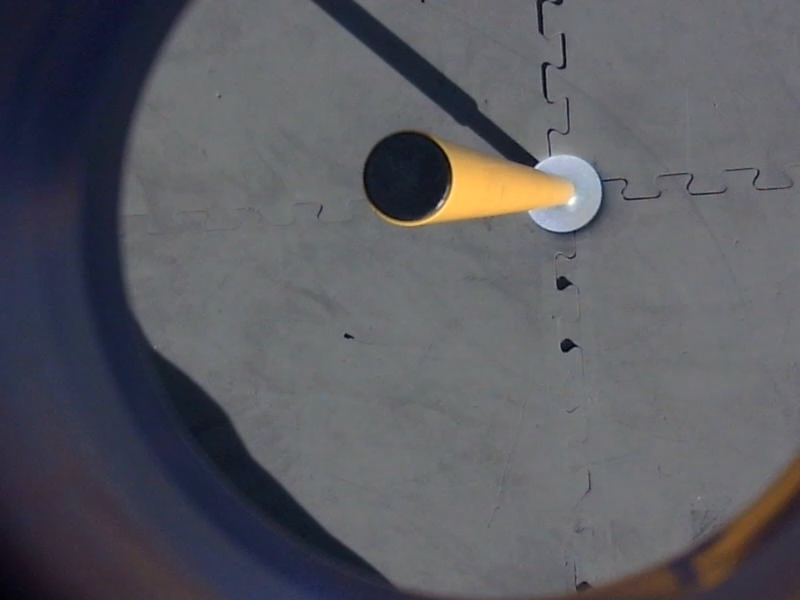tip: (357, 125, 457, 233)
